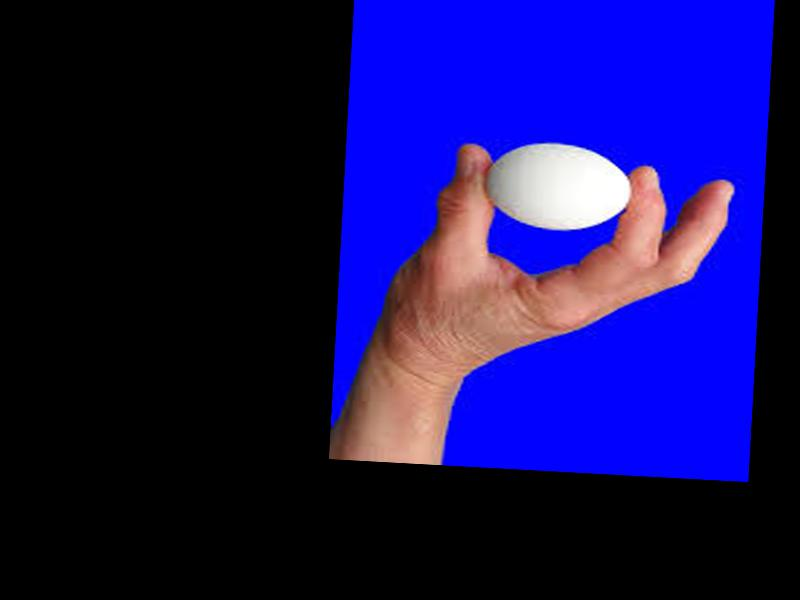Eggs: (484, 140, 636, 234)
